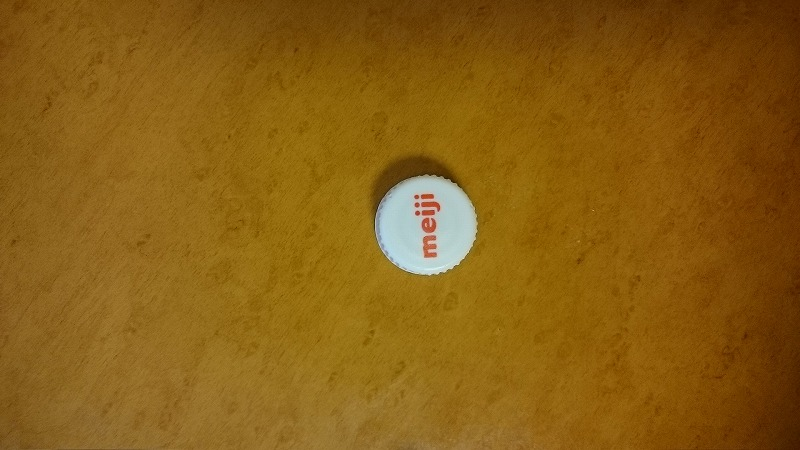B: (367, 168, 500, 284)
